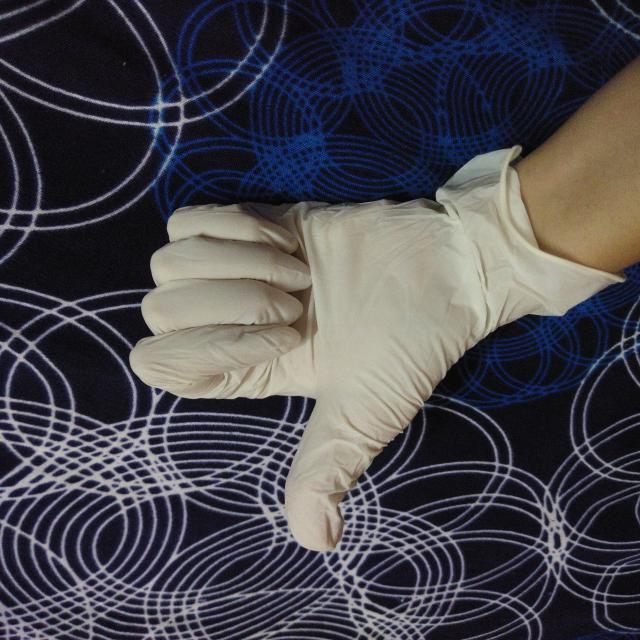gloved_hand: (125, 130, 628, 559)
